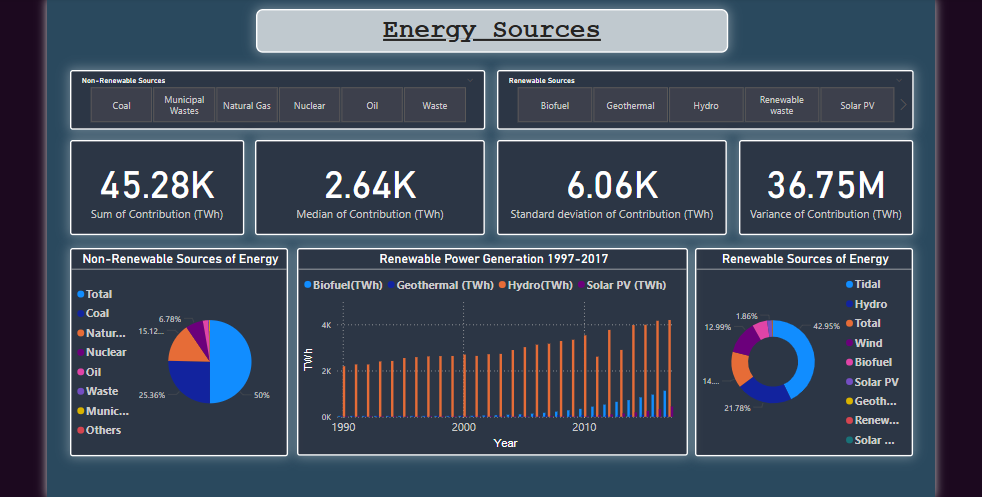

The dashboard page shown, as its layout file describes it:
{"tool":"powerbi","page":{"name":"Sources of Energy","canvas":[1280,720],"ordinal":1},"visuals":[{"type":"textbox","box":[301,15.8,679.7,63.4],"z":0},{"type":"pieChart","title":"Non-Renewable Sources of Energy","fields":{"Category":["nonRenewablesTotalPowerGeneration.Mode of Generation"],"Y":["Sum(nonRenewablesTotalPowerGeneration.Contribution (TWh))"]},"box":[33.1,360,313.9,299.5],"z":1000},{"type":"slicer","fields":{"Values":["nonRenewablesTotalPowerGeneration.Mode of Generation"]},"box":[33.1,103.7,597.6,86.4],"z":2000},{"type":"donutChart","title":"Renewable Sources of Energy","fields":{"Category":["renewablesTotalPowerGeneration.Mode of Generation"],"Y":["Sum(renewablesTotalPowerGeneration.Contribution (TWh))"]},"box":[933.1,360,313.9,299.5],"z":3000},{"type":"slicer","fields":{"Values":["renewablesTotalPowerGeneration.Mode of Generation"]},"box":[648,103.7,600.5,86.4],"z":4000},{"type":"clusteredColumnChart","title":"Renewable Power Generation 1997-2017","fields":{"Category":["renewablePowerGeneration97-17.Year"],"Y":["Sum(renewablePowerGeneration97-17.Biofuel(TWh))","Sum(renewablePowerGeneration97-17.Geothermal (TWh))","Sum(renewablePowerGeneration97-17.Hydro(TWh))","Sum(renewablePowerGeneration97-17.Solar PV (TWh))"]},"box":[359.5,359.5,562.7,299],"z":5000},{"type":"card","fields":{"Values":["Sum(renewablesTotalPowerGeneration.Contribution (TWh))"]},"box":[33.1,204.5,250.6,136.8],"z":6000},{"type":"card","fields":{"Values":["Median(renewablesTotalPowerGeneration.Contribution (TWh))"]},"box":[299.5,204.5,331.2,136.8],"z":7000},{"type":"card","fields":{"Values":["Sum(renewablesTotalPowerGeneration.Contribution (TWh))"]},"box":[648,204.5,331.2,136.8],"z":8000},{"type":"card","fields":{"Values":["Sum(renewablesTotalPowerGeneration.Contribution (TWh))"]},"box":[996.5,204.5,250.6,136.8],"z":9000}]}

Visuals, with their boxes in screenshot pixels (x1, y1, x2, y2):
textbox: 256 3 734 48
"Non-Renewable Sources of Energy" pieChart: 67 246 288 457
slicer - nonRenewablesTotalPowerGeneration.Mode of Generation: 67 65 488 126
"Renewable Sources of Energy" donutChart: 701 246 922 457
slicer - renewablesTotalPowerGeneration.Mode of Generation: 500 65 923 126
"Renewable Power Generation 1997-2017" clusteredColumnChart: 297 246 693 456
card - Sum(renewablesTotalPowerGeneration.Contribution (TWh)): 67 136 243 233
card - Median(renewablesTotalPowerGeneration.Contribution (TWh)): 254 136 488 233
card - Sum(renewablesTotalPowerGeneration.Contribution (TWh)): 500 136 733 233
card - Sum(renewablesTotalPowerGeneration.Contribution (TWh)): 746 136 922 233
